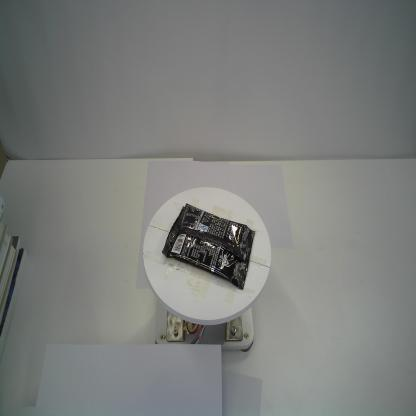Instant Drink: (162, 203, 256, 290)
